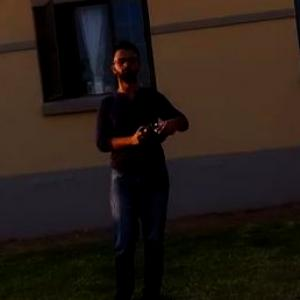follow: (90, 34, 193, 299)
